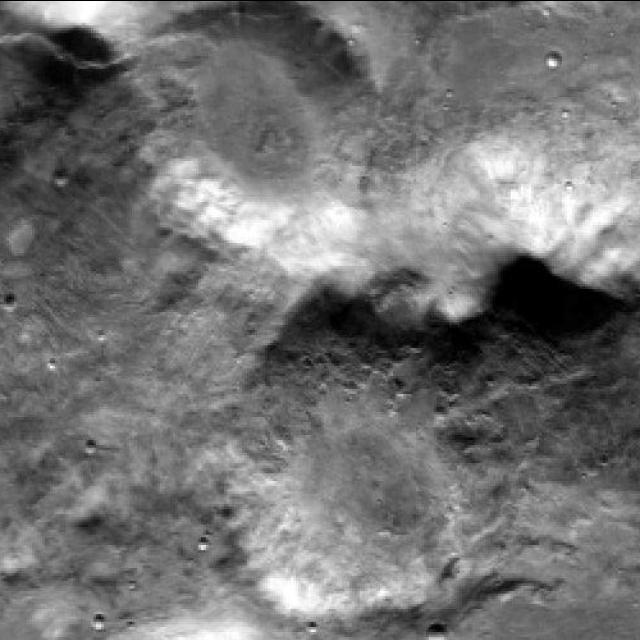crater: (428, 71, 640, 564), (110, 0, 412, 293), (375, 0, 640, 292), (0, 0, 105, 126), (549, 0, 640, 91), (582, 0, 640, 86), (597, 0, 640, 56)
